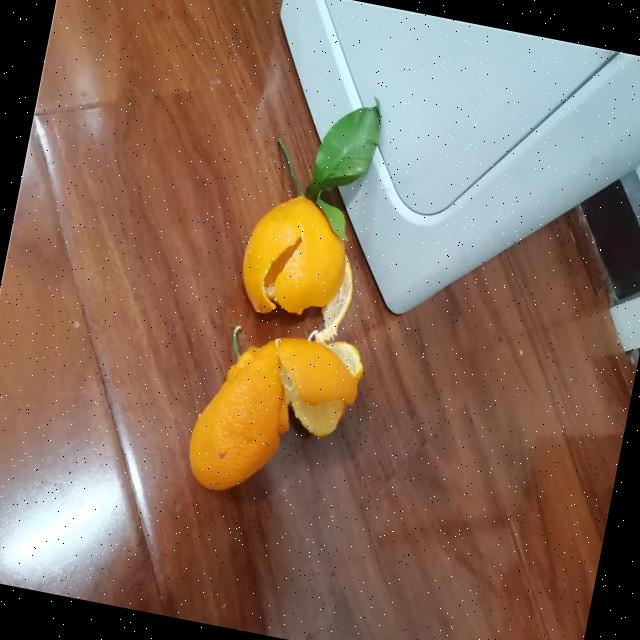orange-peel: (180, 328, 299, 502), (232, 185, 358, 328)
